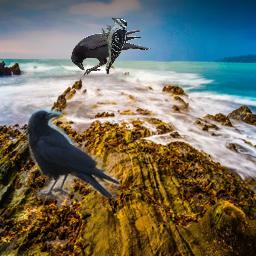Crow: (26, 106, 120, 201), (71, 30, 151, 76)
Woodpecker: (100, 17, 130, 74)
